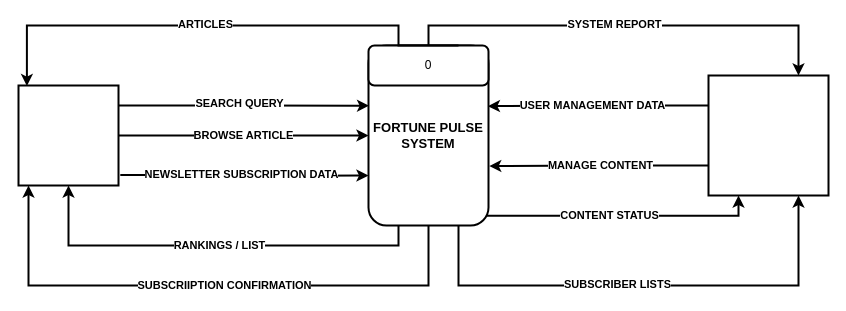
Some shapes in this 846 by 311 pixel diagram are drawn without their labels. Each missing label, with the centre of its shape:
"ADMINISTRATOR" belongs at point 768,135.
"USER" belongs at point 68,135.
